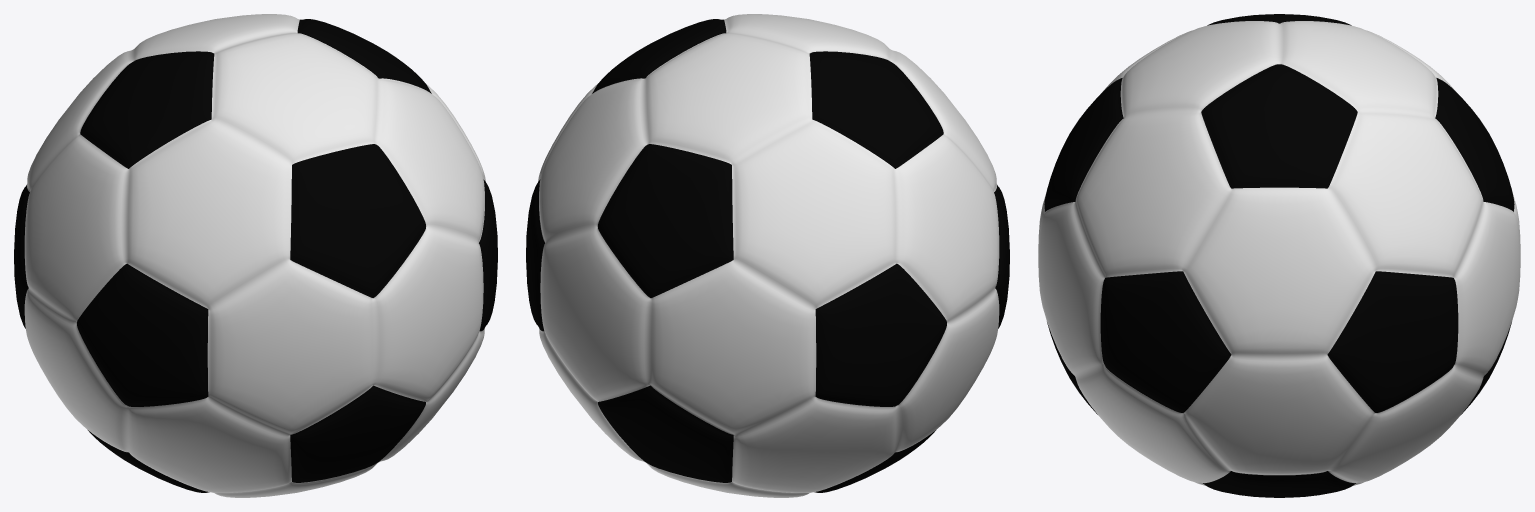
3 renders of one model, left to right at view 1: azimuth 30°, elevation 25°; view 2: azimuth 150°, elevation 25°; view 3: azimuth 270°, elevation 25°, orthographic.
Visible parts, largest first — view 1: SoccerBall; view 2: SoccerBall; view 3: SoccerBall.
Part boxes in pixels (x1,y1,x2,y2): SoccerBall: (14,14,497,497); SoccerBall: (526,14,1009,497); SoccerBall: (1038,14,1520,497).
Bounding box in the file's own units: 1.92 × 1.92 × 1.92.
1 material, 1 textured.
